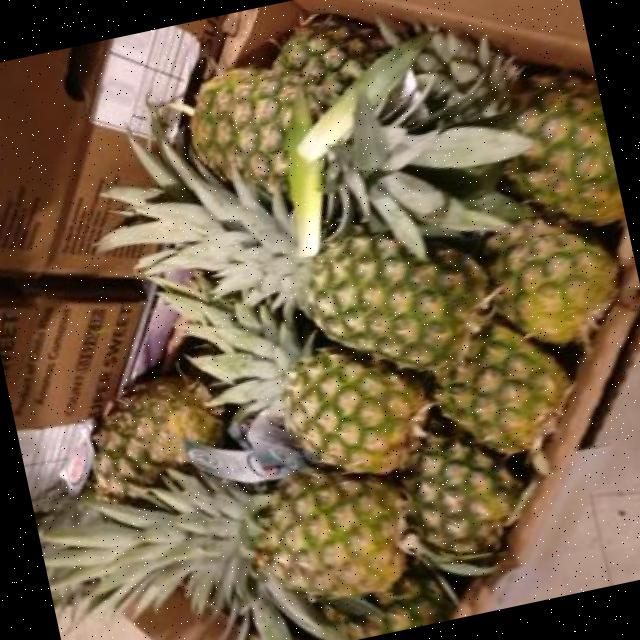pineapple: (100, 142, 490, 369), (191, 34, 529, 257), (42, 468, 404, 613), (163, 283, 427, 473), (39, 376, 219, 526), (507, 71, 625, 222), (433, 322, 569, 452), (485, 217, 617, 342), (411, 435, 524, 553), (273, 14, 386, 113), (319, 569, 450, 640)
